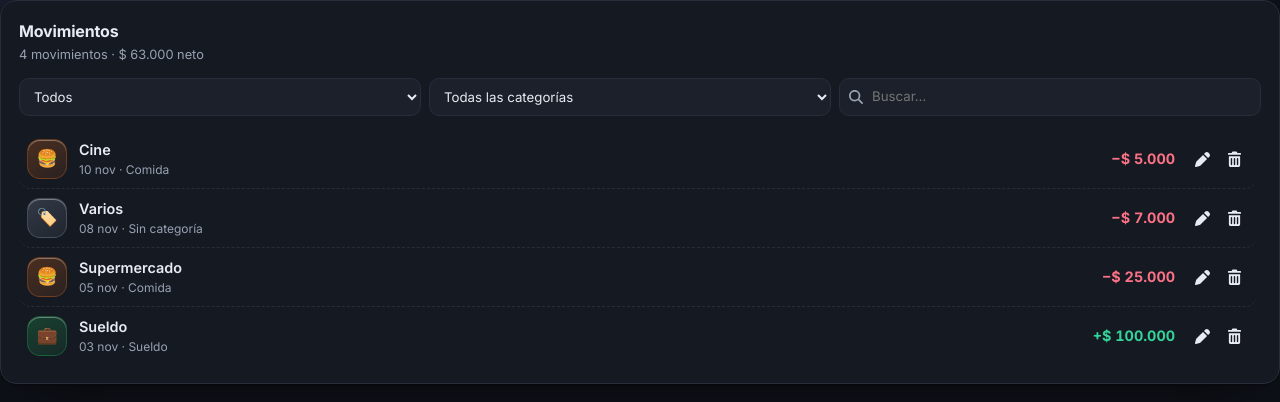
Test case: TransactionList › muestra un estado vacío distinto si hay filtros
This screenshot has width=1280, height=402.
In the search field named "Buscar movimientos": (1050,97) [839,78,1261,116], type "inexistente"
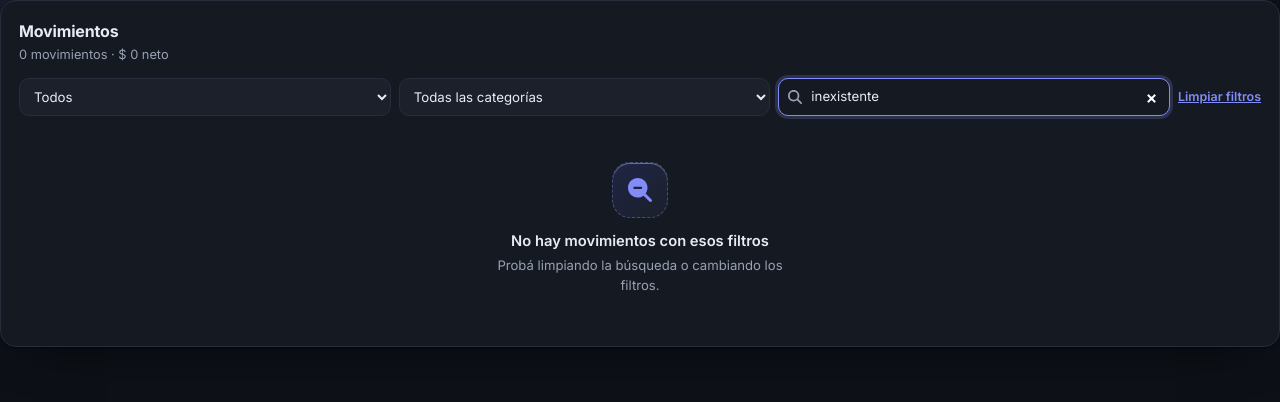
Result: the text "No hay movimientos con esos filtros" is shown at [511,230,769,252]
